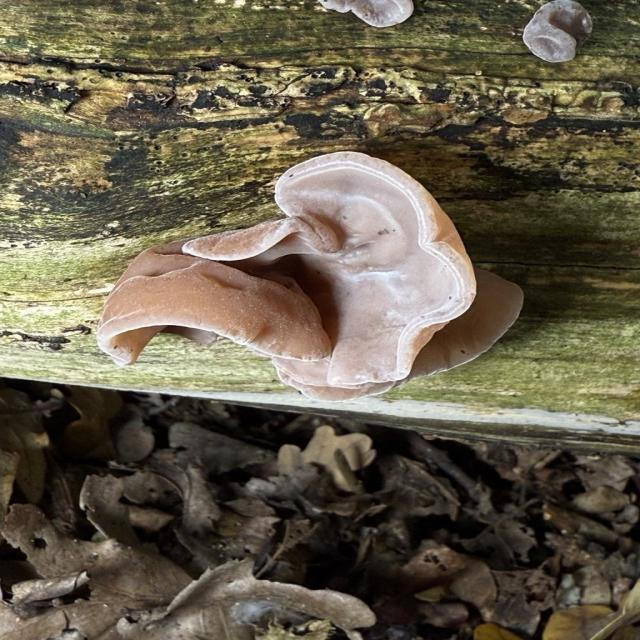Matang: (181, 144, 481, 390), (281, 264, 529, 404), (94, 236, 333, 373)
primordia: (519, 0, 599, 62), (310, 0, 425, 29)
